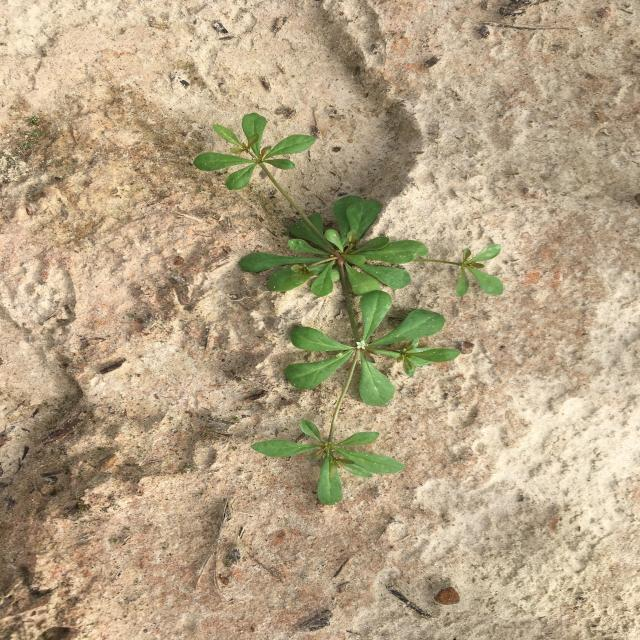Carpetweed: (193, 112, 504, 505)
